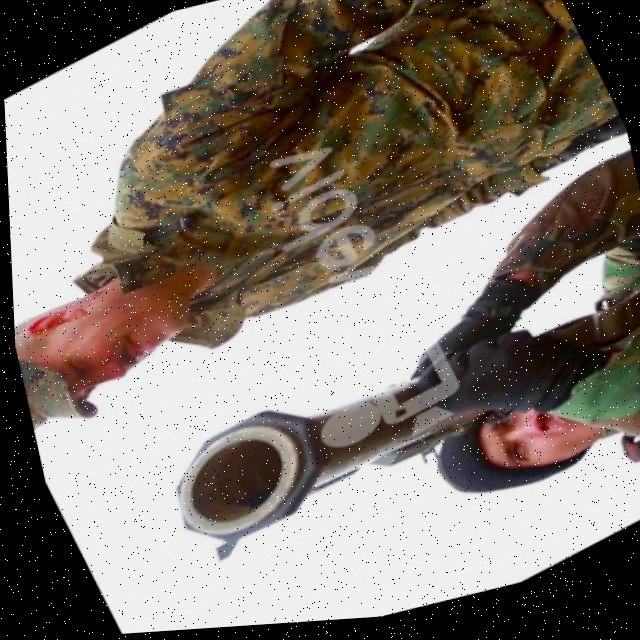rocket: (132, 322, 492, 578)
